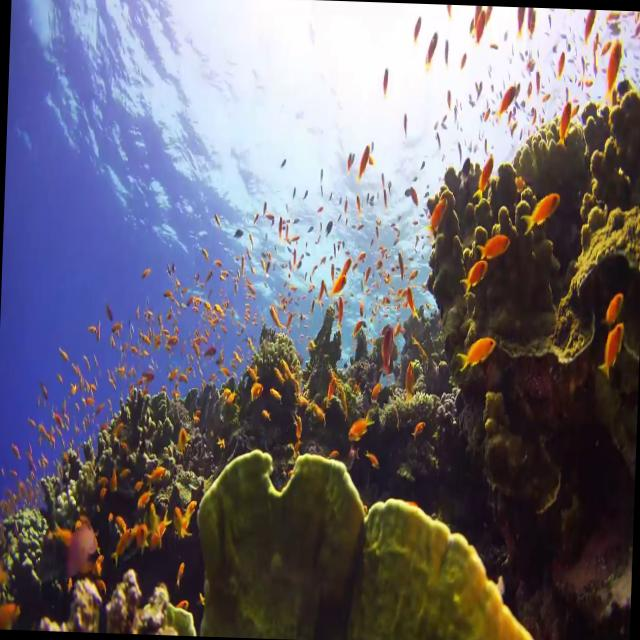fish: (521, 192, 561, 236), (460, 335, 498, 375), (602, 36, 622, 110), (598, 322, 626, 374), (478, 232, 510, 266), (463, 257, 489, 294)
